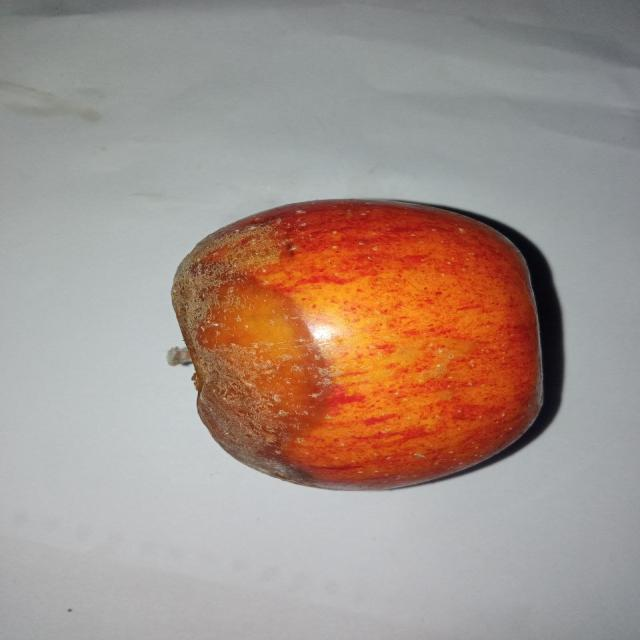rotten_apple: (164, 197, 545, 487)
